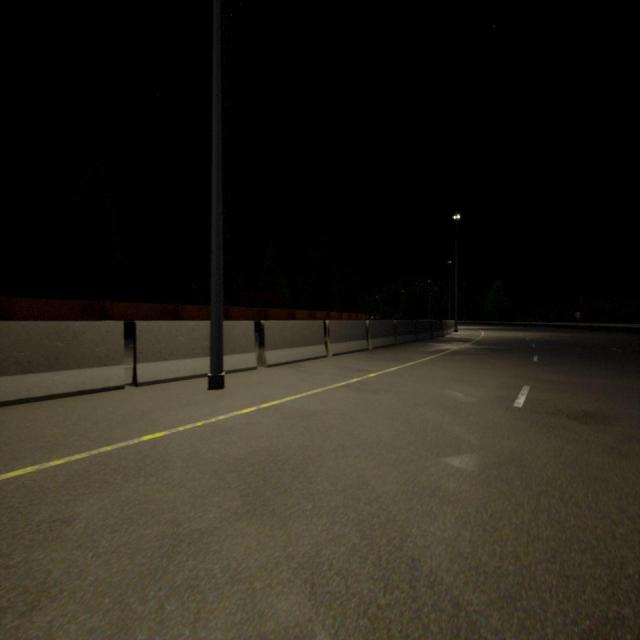Traffic_Signs: (576, 312, 580, 317)
